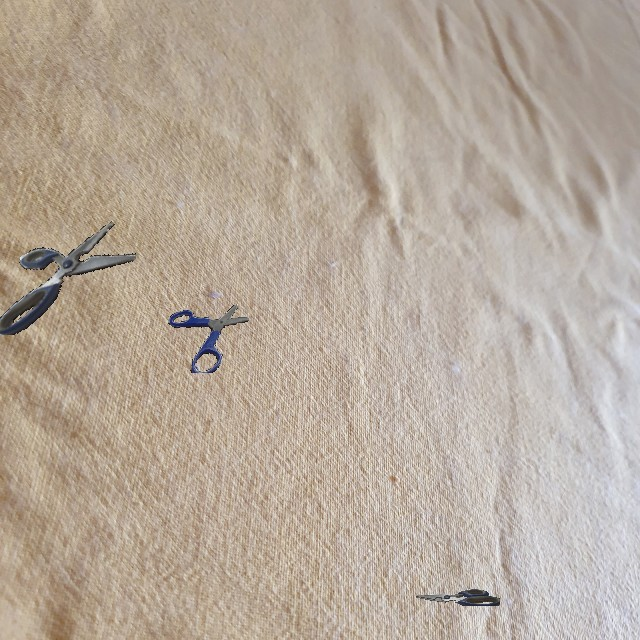scissors: (0, 221, 136, 335), (168, 304, 249, 373), (416, 589, 500, 606)
